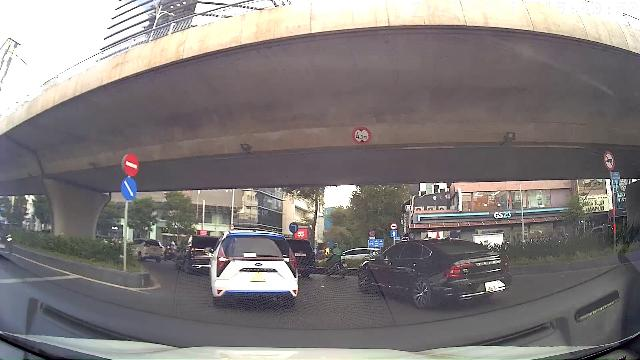102-cam-di-nguoc-chieu: (122, 152, 141, 177)
301c-cac-xe-chi-duoc-re-trai: (289, 222, 299, 234)
302a-huong-phai-di-vong-chuong-ngai-vat-1: (119, 177, 138, 202)
